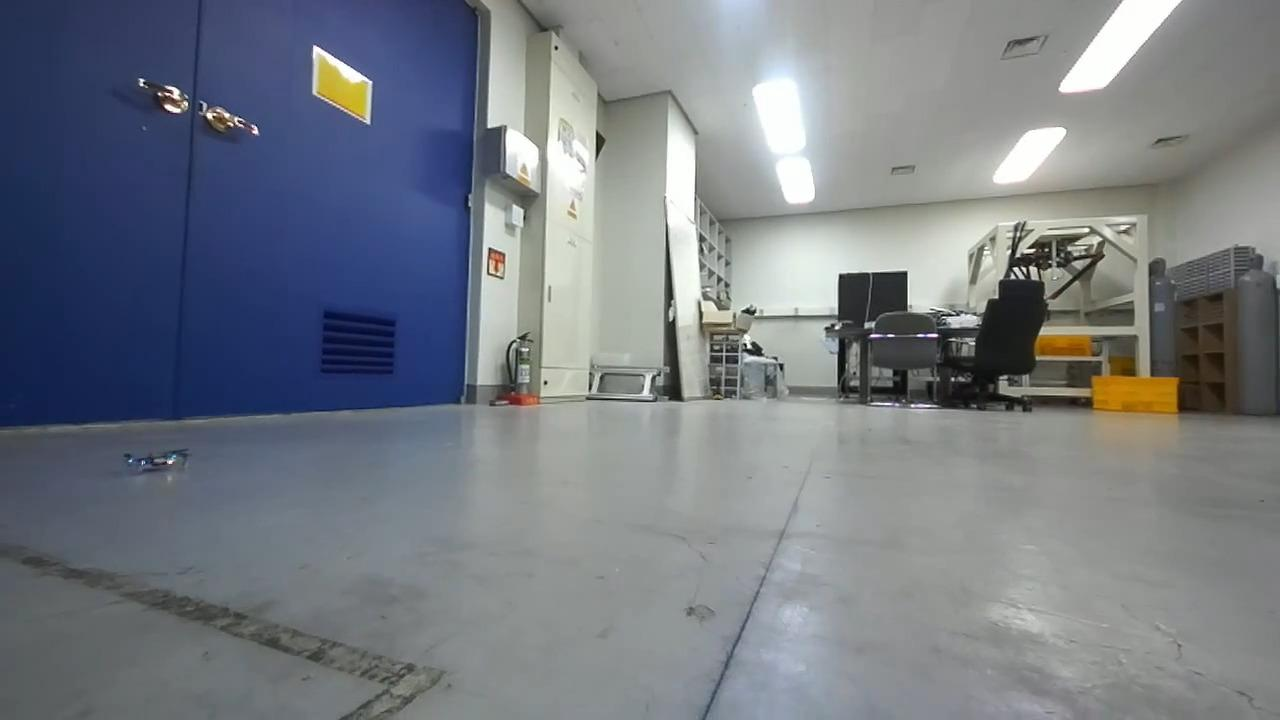crazyflie: (124, 443, 191, 476)
